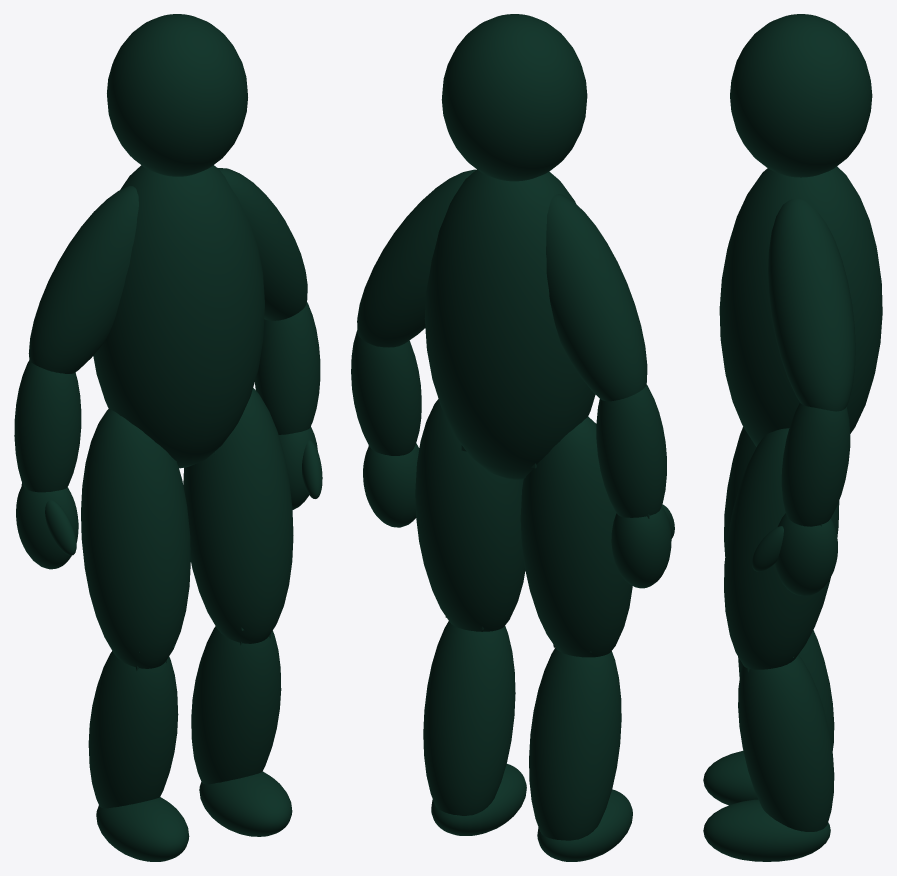
Rendered from figur000.obj.
3 renders of one model, left to right at view 1: azimuth 30°, elevation 25°; view 2: azimuth 150°, elevation 25°; view 3: azimuth 270°, elevation 25°, orthographic. The views are drawn at different scales.
Visible parts, largest first — view 1: Base_HumanSpine, Base_HumanRThigh, Base_HumanLThigh, Base_HumanHead, Base_HumanRUpperarm, Base_HumanLCalf, Base_HumanRCalf, Base_HumanRForearm, Base_HumanLForearm, Base_HumanLUpperarm, Base_HumanRFoot, Base_HumanLFoot (+4 smaller); view 2: Base_HumanSpine, Base_HumanHead, Base_HumanRThigh, Base_HumanLThigh, Base_HumanLCalf, Base_HumanRCalf, Base_HumanRUpperarm, Base_HumanLUpperarm, Base_HumanRForearm, Base_HumanLForearm, Base_HumanRPalm, Base_HumanLPalm (+2 smaller); view 3: Base_HumanSpine, Base_HumanHead, Base_HumanLUpperarm, Base_HumanLCalf, Base_HumanLThigh, Base_HumanLForearm, Base_HumanLFoot, Base_HumanLPalm, Base_HumanRFoot, Base_HumanRCalf, Base_HumanRThigh, Base_HumanLDigit11.
Part boxes in pixels (x1,y1,x2,y2): Base_HumanSpine: (93,165,264,468); Base_HumanRThigh: (81,408,190,668); Base_HumanLThigh: (183,388,293,643); Base_HumanHead: (107,14,247,176); Base_HumanRUpperarm: (28,186,138,373); Base_HumanLCalf: (191,626,281,784); Base_HumanRCalf: (88,651,178,808); Base_HumanRForearm: (14,360,81,492); Base_HumanLForearm: (255,302,320,434); Base_HumanLUpperarm: (218,168,307,320); Base_HumanRFoot: (96,797,189,861); Base_HumanLFoot: (199,771,292,836); Base_HumanSpine: (424,169,595,479); Base_HumanHead: (441,14,587,181); Base_HumanRThigh: (520,416,632,657); Base_HumanLThigh: (415,399,525,631); Base_HumanLCalf: (423,621,515,815); Base_HumanRCalf: (529,648,621,840); Base_HumanRUpperarm: (546,194,647,401); Base_HumanLUpperarm: (357,169,475,347); Base_HumanRForearm: (596,384,666,518); Base_HumanLForearm: (351,330,421,455); Base_HumanRPalm: (611,506,671,588); Base_HumanLPalm: (363,443,419,527); Base_HumanSpine: (719,166,882,446); Base_HumanHead: (730,14,872,177); Base_HumanLUpperarm: (768,198,855,411); Base_HumanLCalf: (738,655,834,831); Base_HumanLThigh: (724,428,839,669); Base_HumanLForearm: (781,403,850,526); Base_HumanLFoot: (703,799,830,861); Base_HumanLPalm: (774,513,837,596); Base_HumanRFoot: (703,751,758,805); Base_HumanRCalf: (738,630,834,750); Base_HumanRThigh: (724,427,756,556); Base_HumanLDigit11: (752,526,783,571).
Size of the model in its own units: 0.555 by 1.43 by 0.287.
